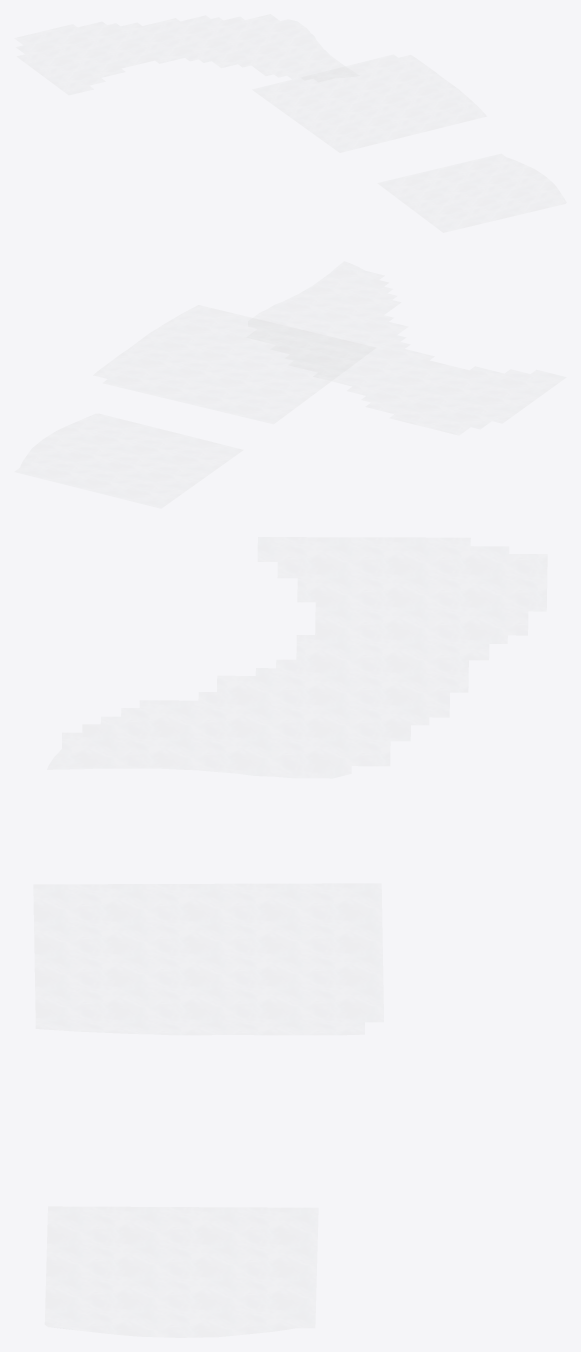
Rendered from hj2-mount-mesh.glb.
The picture shows the model from 3 angles, top to bottom: view 1: azimuth 30°, elevation 25°; view 2: azimuth 150°, elevation 25°; view 3: azimuth 270°, elevation 25°; orthographic projection. The views are drawn at different scales.
Parts seen in each view (by area): view 1: hj2-mount-props; view 2: hj2-mount-props; view 3: hj2-mount-props.
Boxes of the visible parts, x1,y1,x2,y2 form: hj2-mount-props: [15, 14, 566, 232]; hj2-mount-props: [15, 261, 565, 508]; hj2-mount-props: [33, 537, 547, 1337].
Bounding box in the file's own units: 109 × 40.54 × 53.21.
1 material, 1 textured.
